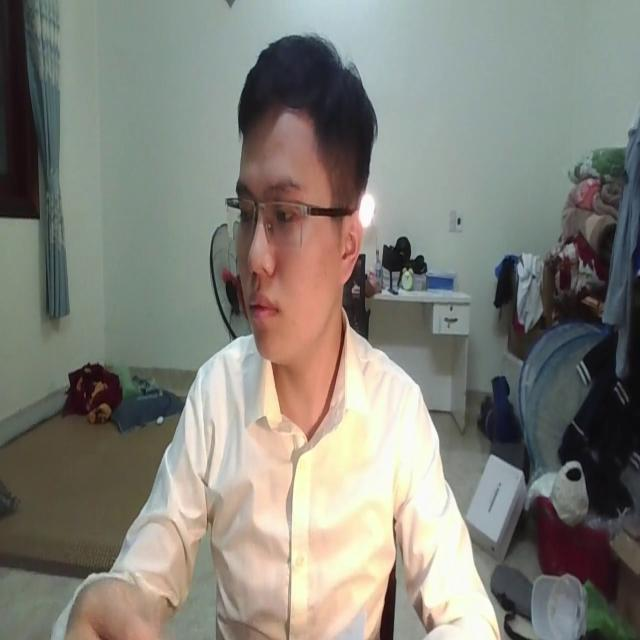student: (56, 31, 500, 640)
